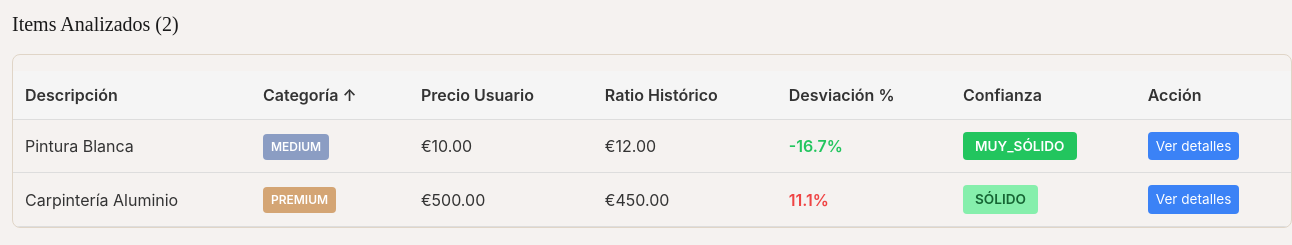
Test: ItemsTable › ordena por descripción al click en header
This screenshot has width=1292, height=245.
// Primero ASC: Carpintería antes que Pintura
Click the column heading "Descripción" at (132, 95), box [13, 71, 251, 120]
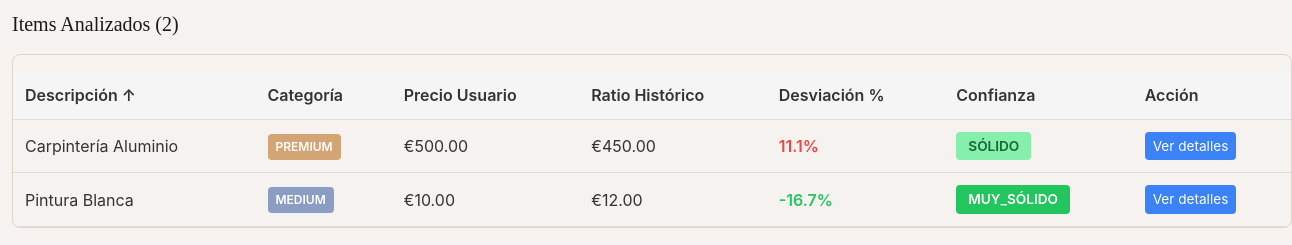
Now the cell "Carpintería Aluminio" is shown, box [13, 120, 256, 173]
// Luego DESC: Pintura antes que Carpintería
Click the column heading "Descripción ↑" at (134, 95), box [13, 71, 256, 120]
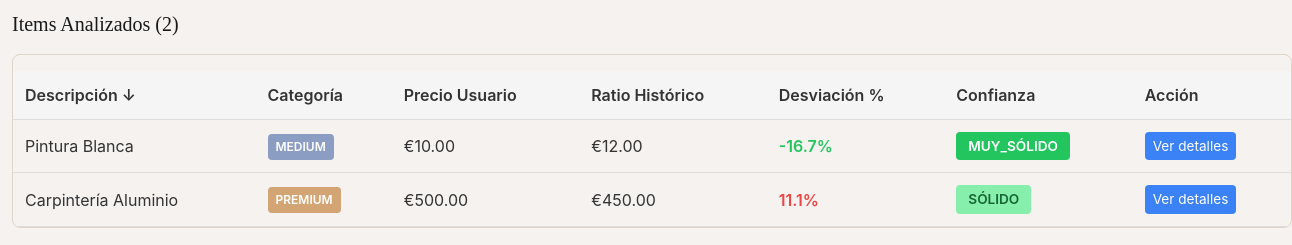
Now the cell "Pintura Blanca" is shown, box [13, 120, 256, 173]
